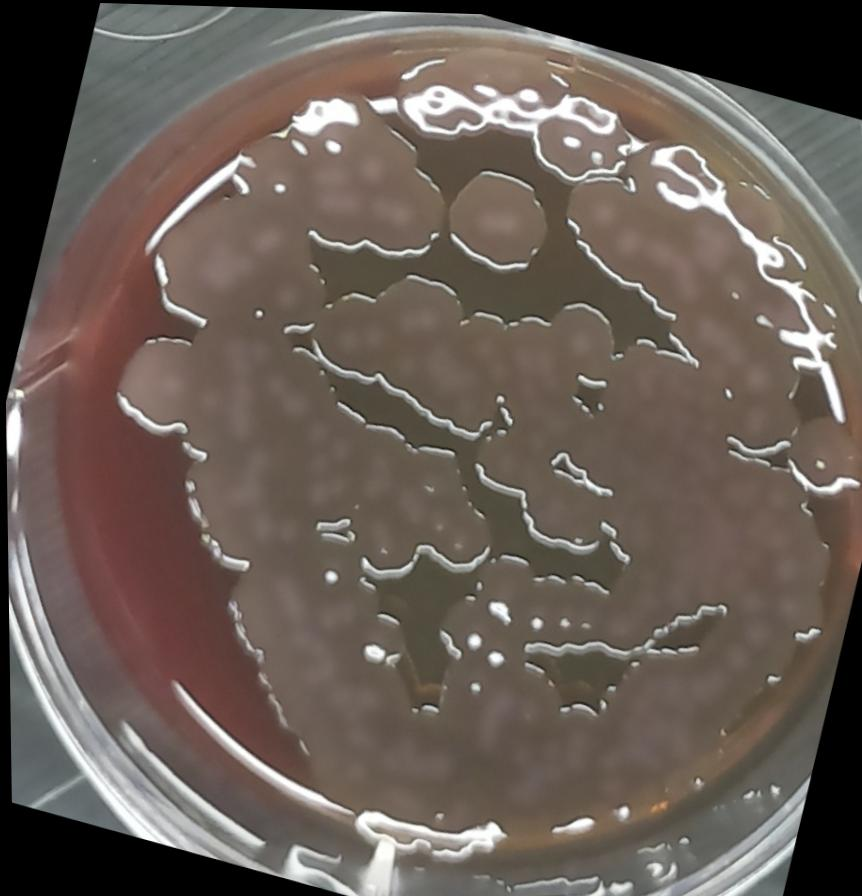vproteolyticus: (519, 93, 858, 434), (213, 52, 464, 274), (459, 272, 651, 562), (292, 238, 518, 444), (296, 403, 523, 604), (130, 166, 346, 355), (434, 153, 562, 283), (99, 312, 210, 440), (773, 395, 862, 506)
